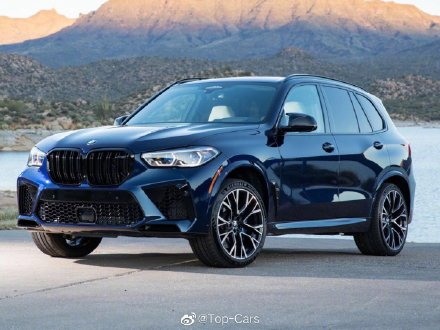other: (27, 70, 415, 255)
